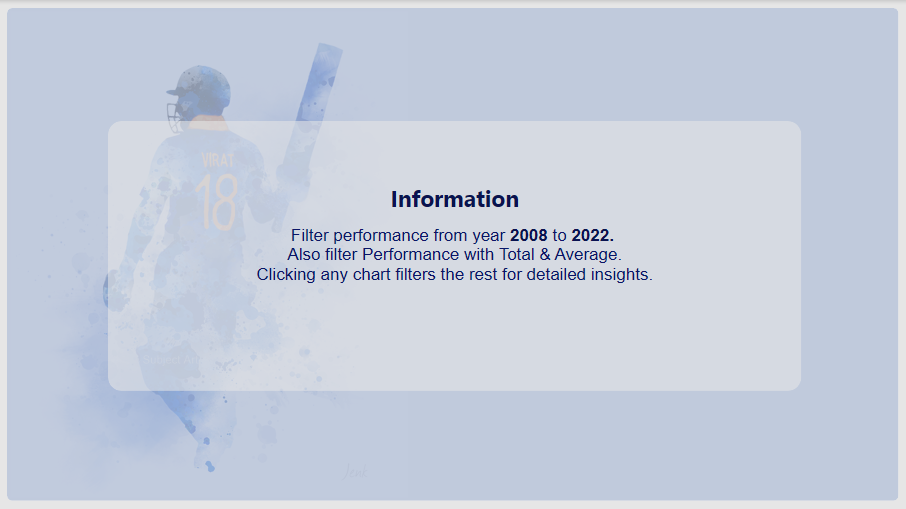

Layout of this report page (visuals, bound fields, positions):
{"tool":"powerbi","page":{"name":"Page 3","canvas":[1280,720],"ordinal":1},"visuals":[{"type":"shape","box":[11.4,11.4,1257.1,697.1],"z":0},{"type":"image","box":[12.9,15.7,558.6,690],"z":1000},{"type":"shape","box":[11.2,11.2,1256.2,697.5],"z":1500},{"type":"shape","box":[152.7,170.2,978.9,381.1],"z":2000},{"type":"textbox","box":[151.3,253.1,981.8,212.4],"z":3000}]}

Visuals, with their boxes in screenshot pixels (x1, y1, x2, y2), scaled from the page's 1280x720 canvas onto the 906x509 screenshot:
shape: box=[8, 8, 898, 501]
image: box=[9, 11, 405, 499]
shape: box=[8, 8, 897, 501]
shape: box=[108, 120, 801, 390]
textbox: box=[107, 179, 802, 329]
